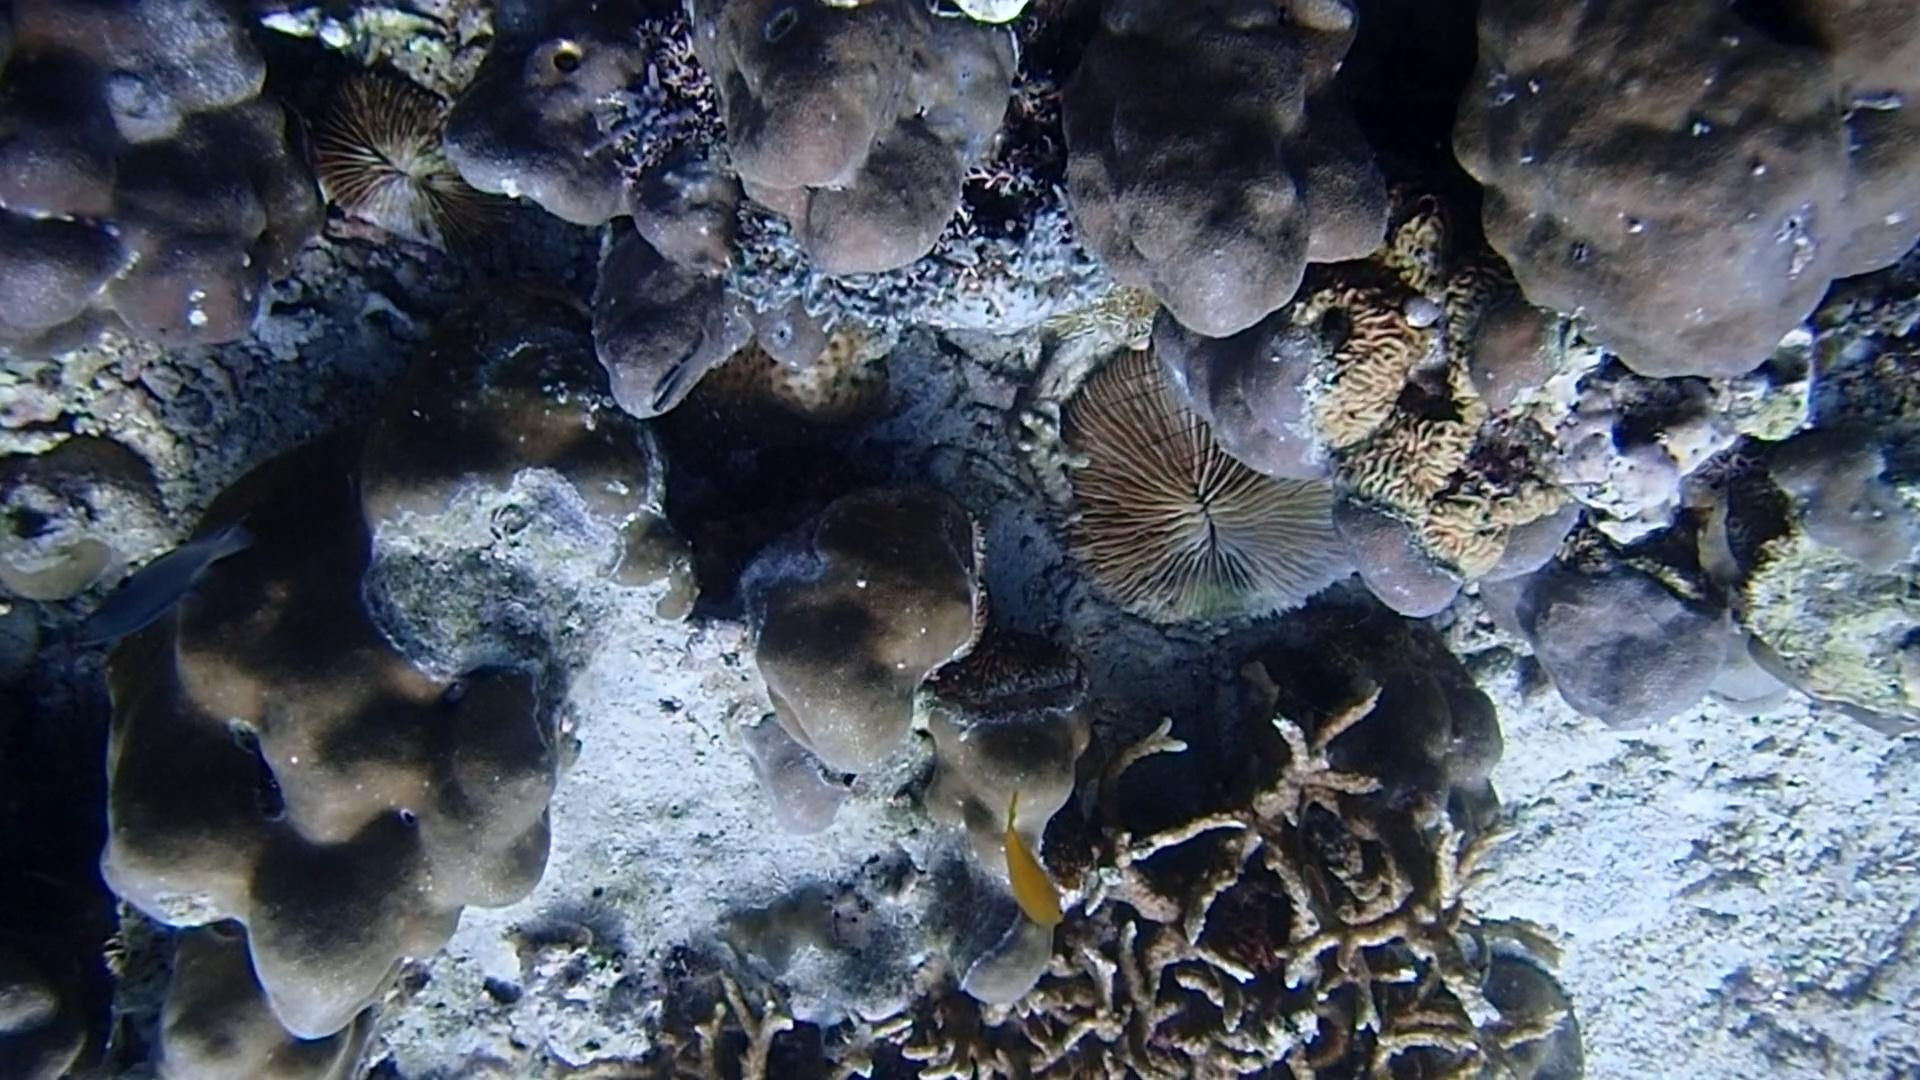Blue Fish Two: (61, 517, 256, 665)
Yellow Fish: (986, 787, 1077, 943)
